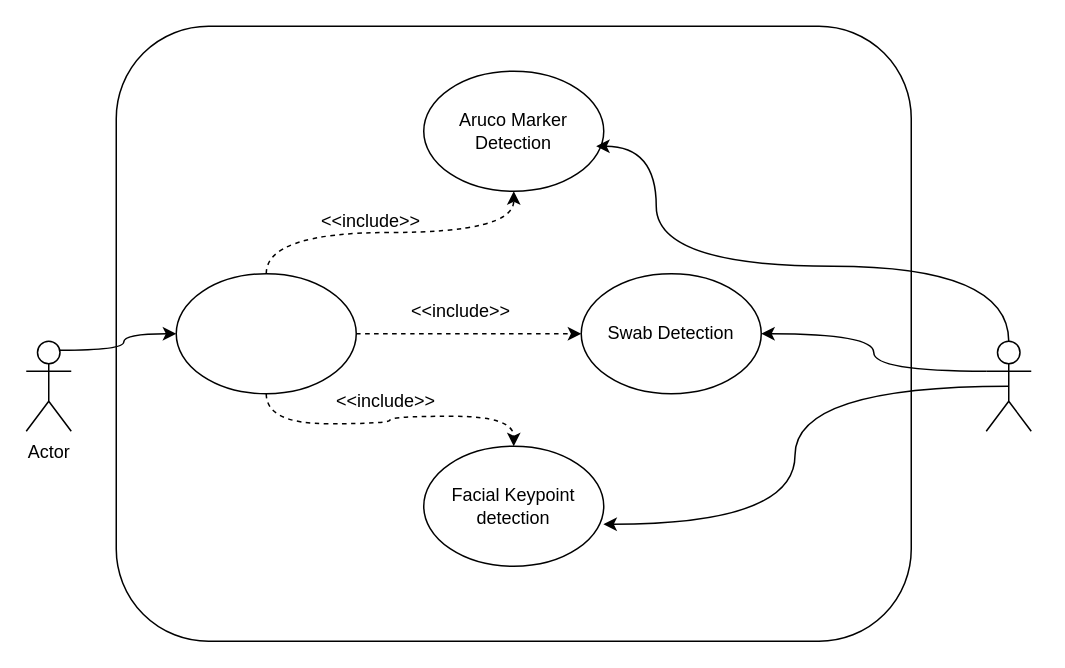
Some shapes in this 1065 by 668 pixel diagram are drawn without their labels. The centre of each missing label's shape, as x and y in pixels:
"Start Self-Testing" belongs at [265,333].
"System" belongs at [1008,385].
